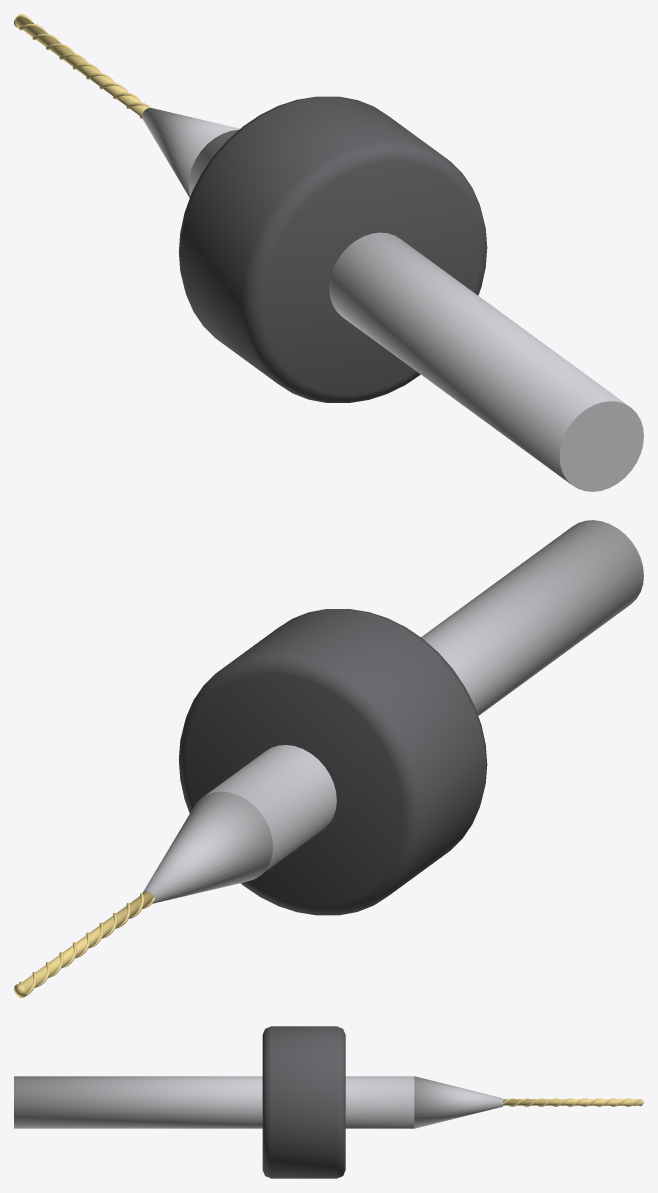
The model's file is drill18_0p5.glb.
3 renders of one model, top to bottom at view 1: azimuth 30°, elevation 25°; view 2: azimuth 150°, elevation 25°; view 3: azimuth 270°, elevation 25°, orthographic. The views are drawn at different scales.
Parts seen in each view (by area): view 1: Cylinder.002, Cylinder.001, Cone, Cylinder; view 2: Cylinder.002, Cylinder.001, Cone, Cylinder; view 3: Cylinder.001, Cylinder.002, Cone, Cylinder, flute.001.
Part boxes in pixels (x1,y1,x2,y2): Cylinder.002: [178, 96, 487, 402]; Cylinder.001: [188, 129, 643, 491]; Cone: [142, 108, 239, 197]; Cylinder: [15, 16, 148, 115]; Cylinder.002: [178, 609, 487, 915]; Cylinder.001: [203, 520, 643, 874]; Cone: [142, 791, 272, 903]; Cylinder: [21, 891, 153, 992]; Cylinder.001: [14, 1076, 414, 1128]; Cylinder.002: [262, 1026, 345, 1178]; Cone: [414, 1076, 502, 1128]; Cylinder: [503, 1099, 641, 1105]; flute.001: [509, 1098, 641, 1106].
Bounding box in the file's own units: 0.00917 × 0.00917 × 0.038.
